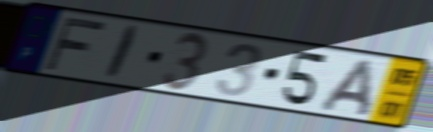3: (160, 30, 212, 94), (214, 41, 264, 98)
5: (280, 48, 329, 107)
A: (315, 56, 375, 119)
F: (41, 15, 110, 73)
I: (101, 23, 144, 82)
